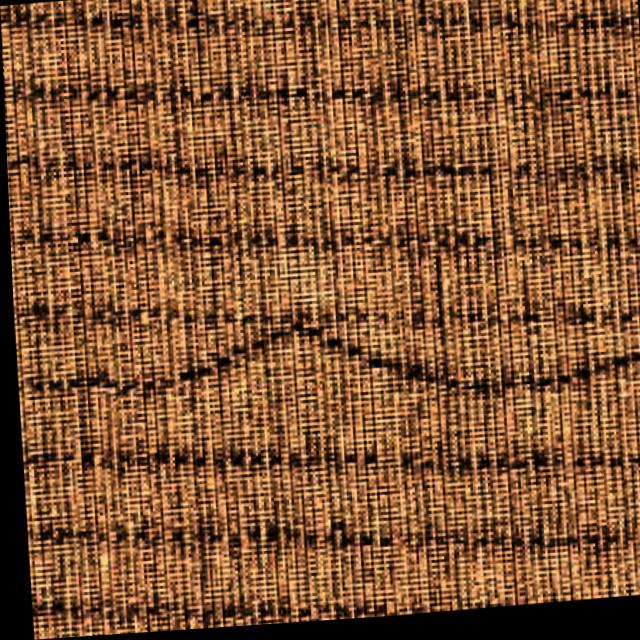Stitch: (152, 269, 640, 443)
